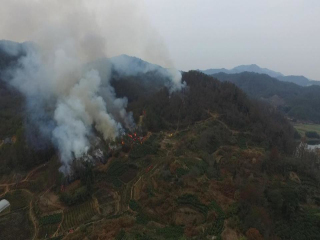smoke: (11, 21, 189, 178)
